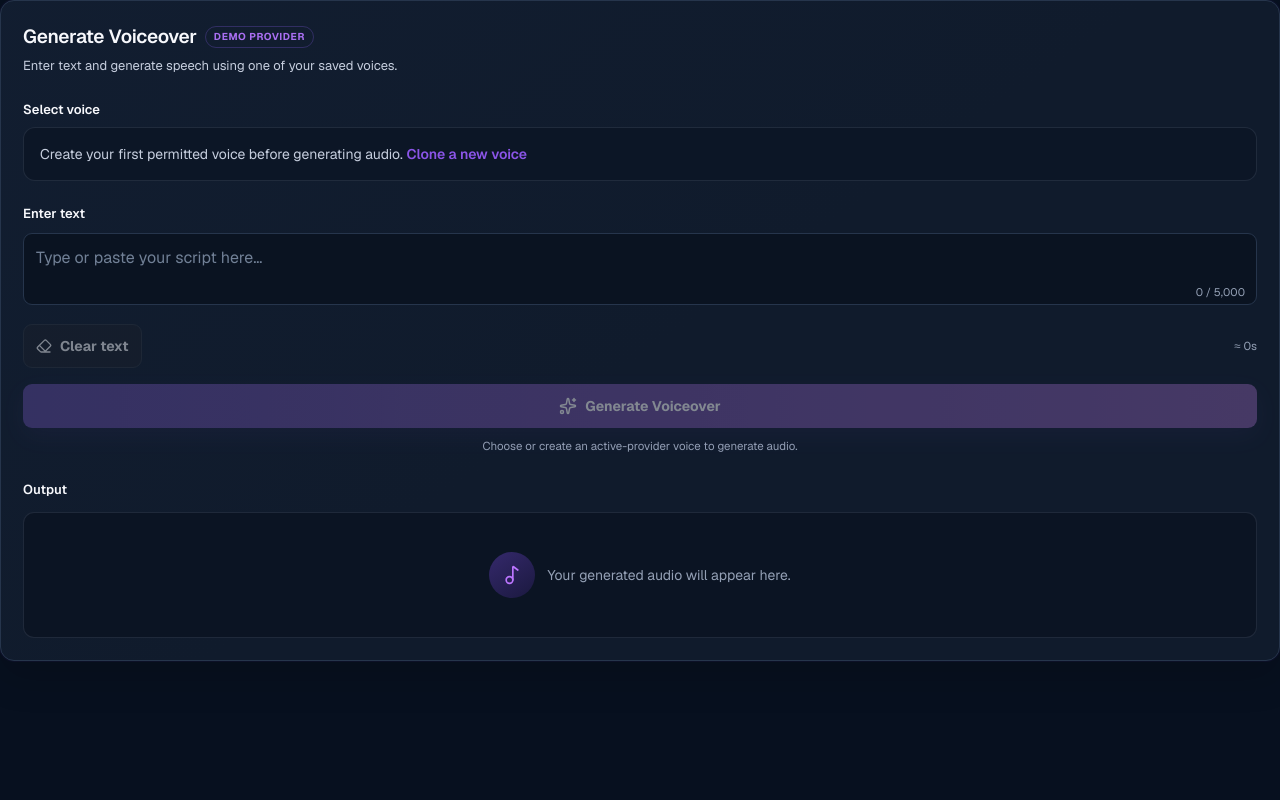
Test case: generation panel › counts a script and remains disabled without a voice
The width and height of the screenshot is (1280, 800).
Type "Hello" into the text box labelled "Enter text" at (640, 269), box left=23, top=233, right=1257, bottom=305
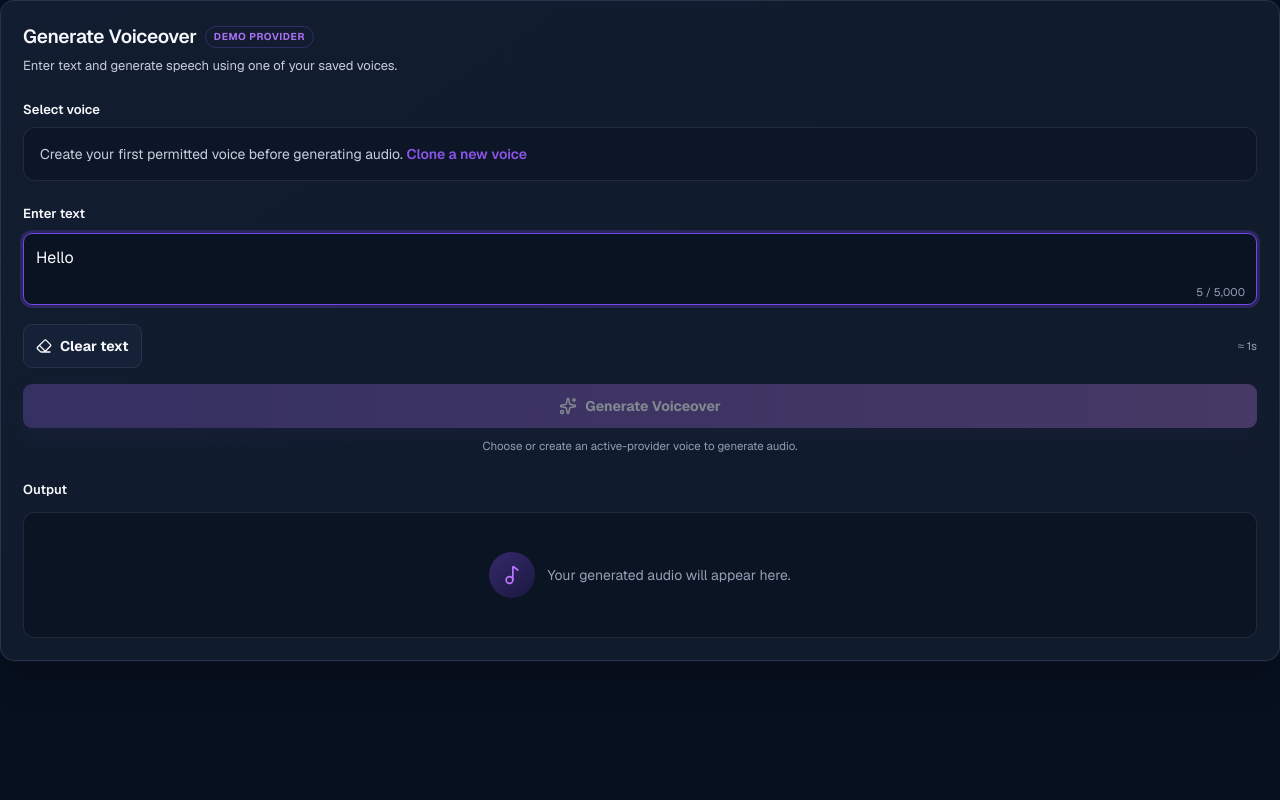
Expected: the button "Generate Voiceover" is disabled, left=23, top=384, right=1257, bottom=428
Result: the text "5 / 5,000" is shown at left=1196, top=284, right=1245, bottom=300
